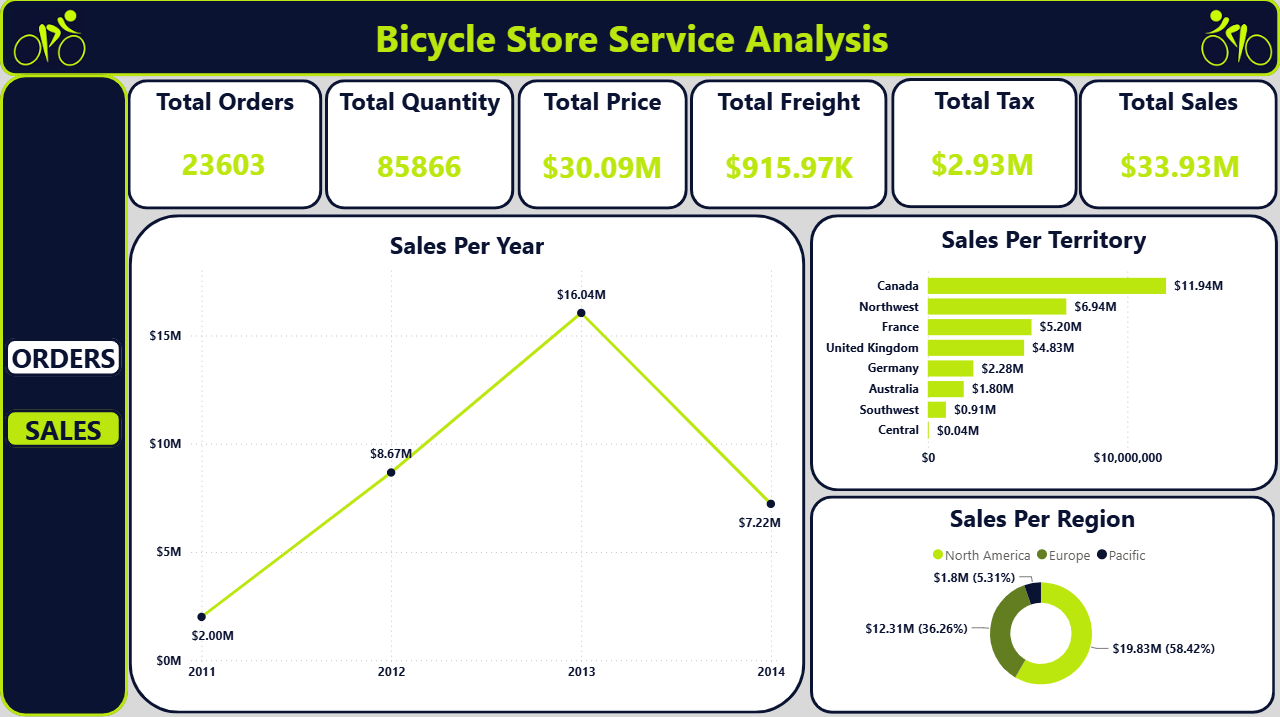

What the dashboard file says about the page in this screenshot:
{"tool":"powerbi","page":{"name":"Sales","canvas":[1280,720],"ordinal":1},"visuals":[{"type":"group","id":"g1","title":"Group 2","box":[0,0,1280.3,78.2],"z":0},{"type":"shape","box":[324.8,81,189.4,130.4],"z":0,"group":"g6"},{"type":"group","id":"g2","title":"Group 3","box":[890.8,80.5,186.6,130.4],"z":1000},{"type":"cardVisual","fields":{"Data":["DAX Measures.TotalOrders"]},"box":[353.6,133.1,131.7,63.1],"z":1000,"group":"g6"},{"type":"group","id":"g3","title":"Group 4","box":[689.9,81,197.6,130.4],"z":2000},{"type":"shape","box":[127.9,81,194.9,130.4],"z":3000,"group":"g5"},{"type":"group","id":"g4","title":"Group 5","box":[518,81,170.2,130.4],"z":3000},{"type":"cardVisual","fields":{"Data":["DAX Measures.TotalProducts"]},"box":[155.3,131.8,138.6,63.1],"z":3500,"group":"g5"},{"type":"shape","box":[0,0,1280.3,78.2],"z":5000,"group":"g7"},{"type":"shape","box":[0,76.8,128,642.2],"z":5000,"group":"g9"},{"type":"shape","box":[890.8,80.5,186.6,130.4],"z":5000,"group":"g2"},{"type":"group","id":"g5","title":"Group 6","box":[127.9,81,194.9,130.4],"z":5000},{"type":"shape","box":[518,81,170.2,130.4],"z":5000,"group":"g4"},{"type":"shape","box":[689.9,81,197.6,130.4],"z":5000,"group":"g3"},{"type":"shape","box":[1078.6,81,199,130.4],"z":5000,"group":"g8"},{"type":"cardVisual","fields":{"Data":["DAX Measures.TotalTax"]},"box":[896.9,132.6,170.2,63.1],"z":5500,"group":"g2"},{"type":"cardVisual","fields":{"Data":["DAX Measures.OverallAmt"]},"box":[1098.4,133.2,163.3,63.1],"z":5500,"group":"g8"},{"type":"cardVisual","fields":{"Data":["DAX Measures.TotalSales"]},"box":[519.4,134.5,167.4,63.1],"z":5500,"group":"g4"},{"type":"cardVisual","fields":{"Data":["DAX Measures.TotalFreight"]},"box":[707.7,134.5,163.3,63.1],"z":5500,"group":"g3"},{"type":"group","id":"g6","title":"Group 7","box":[324.8,81,189.4,130.4],"z":6000},{"type":"shape","box":[129,216.8,676.5,499.5],"z":6000,"group":"g12"},{"type":"group","id":"g7","title":"Group 1","box":[0,0,1280.3,78.2],"z":6001,"group":"g1"},{"type":"shape","box":[809.6,216.8,467.9,277.2],"z":7000,"group":"g11"},{"type":"shape","box":[809.6,498.1,465.2,218.2],"z":7000,"group":"g13"},{"type":"textbox","box":[370.5,8.2,540.7,63.1],"z":8000,"group":"g7"},{"type":"group","id":"g8","title":"Group 3","box":[1078.6,81,199,130.4],"z":8000},{"type":"group","id":"g9","title":"Group 1","box":[0,76.8,128,642.2],"z":9000},{"type":"image","box":[11,9.6,76.8,59],"z":10000},{"type":"image","box":[1199.3,9.6,76,59],"z":11000},{"type":"actionButton","box":[5.5,340.3,116.6,38.4],"z":12000},{"type":"actionButton","box":[5.5,411.7,116.6,38.4],"z":13000},{"type":"group","id":"g10","title":"Group 8","box":[129,216.8,676.5,499.5],"z":14000},{"type":"barChart","fields":{"Category":["TerritoryDIM.Territory"],"Y":["DAX Measures.TotalSales"]},"box":[819.2,259.3,447.3,219.6],"z":16000,"group":"g11"},{"type":"group","id":"g11","title":"Group 9","box":[809.6,216.8,467.9,277.2],"z":16001},{"type":"group","id":"g12","title":"Group 10","box":[129,216.8,676.5,499.5],"z":16002,"group":"g10"},{"type":"lineChart","fields":{"Y":["DAX Measures.TotalSales"],"Category":["OrderDateDIM.OrderDate.Variation.Date Hierarchy.Year"]},"box":[144.1,259.6,646.3,433.6],"z":16002,"group":"g12"},{"type":"group","id":"g13","title":"Group 9","box":[809.6,498.1,465.2,218.2],"z":16002},{"type":"donutChart","fields":{"Category":["TerritoryDIM.TerritoryGroup"],"Y":["DAX Measures.TotalSales"]},"box":[817.8,536.5,447.3,168.8],"z":16003}]}

Visuals, with their boxes in screenshot pixels (x1, y1, x2, y2), scaled from the page's 1280x720 canvas onto the 1280x717 screenshot:
"Group 2" group: <region>0, 0, 1279, 78</region>
shape: <region>325, 81, 514, 211</region>
"Group 3" group: <region>891, 80, 1077, 210</region>
cardVisual - DAX Measures.TotalOrders: <region>354, 133, 485, 195</region>
"Group 4" group: <region>690, 81, 888, 211</region>
shape: <region>128, 81, 323, 211</region>
"Group 5" group: <region>518, 81, 688, 211</region>
cardVisual - DAX Measures.TotalProducts: <region>155, 131, 294, 194</region>
shape: <region>0, 0, 1279, 78</region>
shape: <region>0, 76, 128, 716</region>
shape: <region>891, 80, 1077, 210</region>
"Group 6" group: <region>128, 81, 323, 211</region>
shape: <region>518, 81, 688, 211</region>
shape: <region>690, 81, 888, 211</region>
shape: <region>1079, 81, 1278, 211</region>
cardVisual - DAX Measures.TotalTax: <region>897, 132, 1067, 195</region>
cardVisual - DAX Measures.OverallAmt: <region>1098, 133, 1262, 195</region>
cardVisual - DAX Measures.TotalSales: <region>519, 134, 687, 197</region>
cardVisual - DAX Measures.TotalFreight: <region>708, 134, 871, 197</region>
"Group 7" group: <region>325, 81, 514, 211</region>
shape: <region>129, 216, 806, 713</region>
"Group 1" group: <region>0, 0, 1279, 78</region>
shape: <region>810, 216, 1278, 492</region>
shape: <region>810, 496, 1275, 713</region>
textbox: <region>370, 8, 911, 71</region>
"Group 3" group: <region>1079, 81, 1278, 211</region>
"Group 1" group: <region>0, 76, 128, 716</region>
image: <region>11, 10, 88, 68</region>
image: <region>1199, 10, 1275, 68</region>
actionButton: <region>6, 339, 122, 377</region>
actionButton: <region>6, 410, 122, 448</region>
"Group 8" group: <region>129, 216, 806, 713</region>
barChart - TerritoryDIM.Territory x DAX Measures.TotalSales: <region>819, 258, 1266, 477</region>
"Group 9" group: <region>810, 216, 1278, 492</region>
"Group 10" group: <region>129, 216, 806, 713</region>
lineChart - DAX Measures.TotalSales x OrderDateDIM.OrderDate.Variation.Date Hierarchy.Year: <region>144, 259, 790, 690</region>
"Group 9" group: <region>810, 496, 1275, 713</region>
donutChart - TerritoryDIM.TerritoryGroup x DAX Measures.TotalSales: <region>818, 534, 1265, 702</region>
